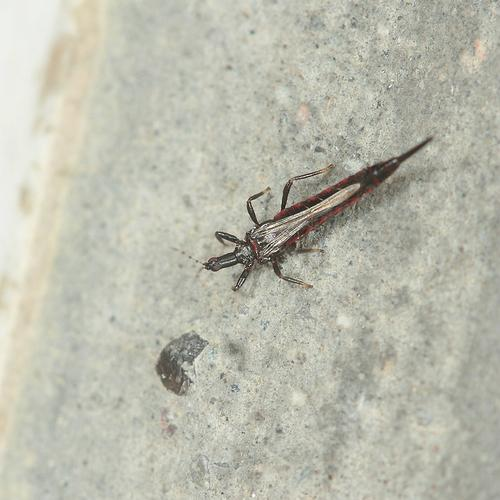Phlaeothripidae: (173, 129, 441, 303)
